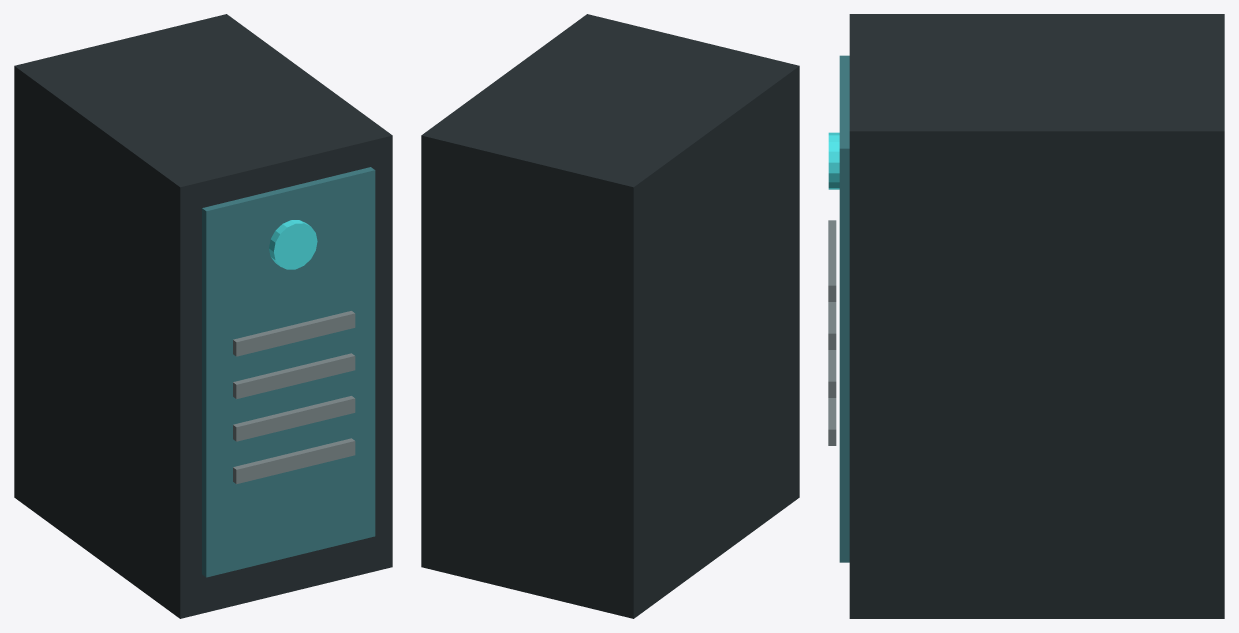
Rendered from computer_tower.glb.
3 renders of one model, left to right at view 1: azimuth 30°, elevation 25°; view 2: azimuth 150°, elevation 25°; view 3: azimuth 270°, elevation 25°, orthographic. The views are drawn at different scales.
Visible parts, largest first — view 1: Computer tower, Tower front panel, Tower vent 1, Tower vent 2, Tower vent 3, Tower vent 4, Tower power button; view 2: Computer tower; view 3: Computer tower, Tower front panel, Tower vent 4, Tower power button.
Boxes of the visible parts, x1=… form: Computer tower: x1=14, y1=14, x2=392, y2=618; Tower front panel: x1=202, y1=167, x2=375, y2=577; Tower vent 1: x1=233, y1=438, x2=355, y2=484; Tower vent 2: x1=233, y1=396, x2=355, y2=441; Tower vent 3: x1=233, y1=353, x2=355, y2=399; Tower vent 4: x1=233, y1=311, x2=355, y2=356; Tower power button: x1=269, y1=220, x2=317, y2=269; Computer tower: x1=421, y1=14, x2=799, y2=618; Computer tower: x1=849, y1=14, x2=1224, y2=618; Tower front panel: x1=839, y1=55, x2=849, y2=562; Tower vent 4: x1=828, y1=220, x2=836, y2=301; Tower power button: x1=828, y1=132, x2=839, y2=189.
Size of the model in its own units: 0.34 by 0.66 by 0.486.
